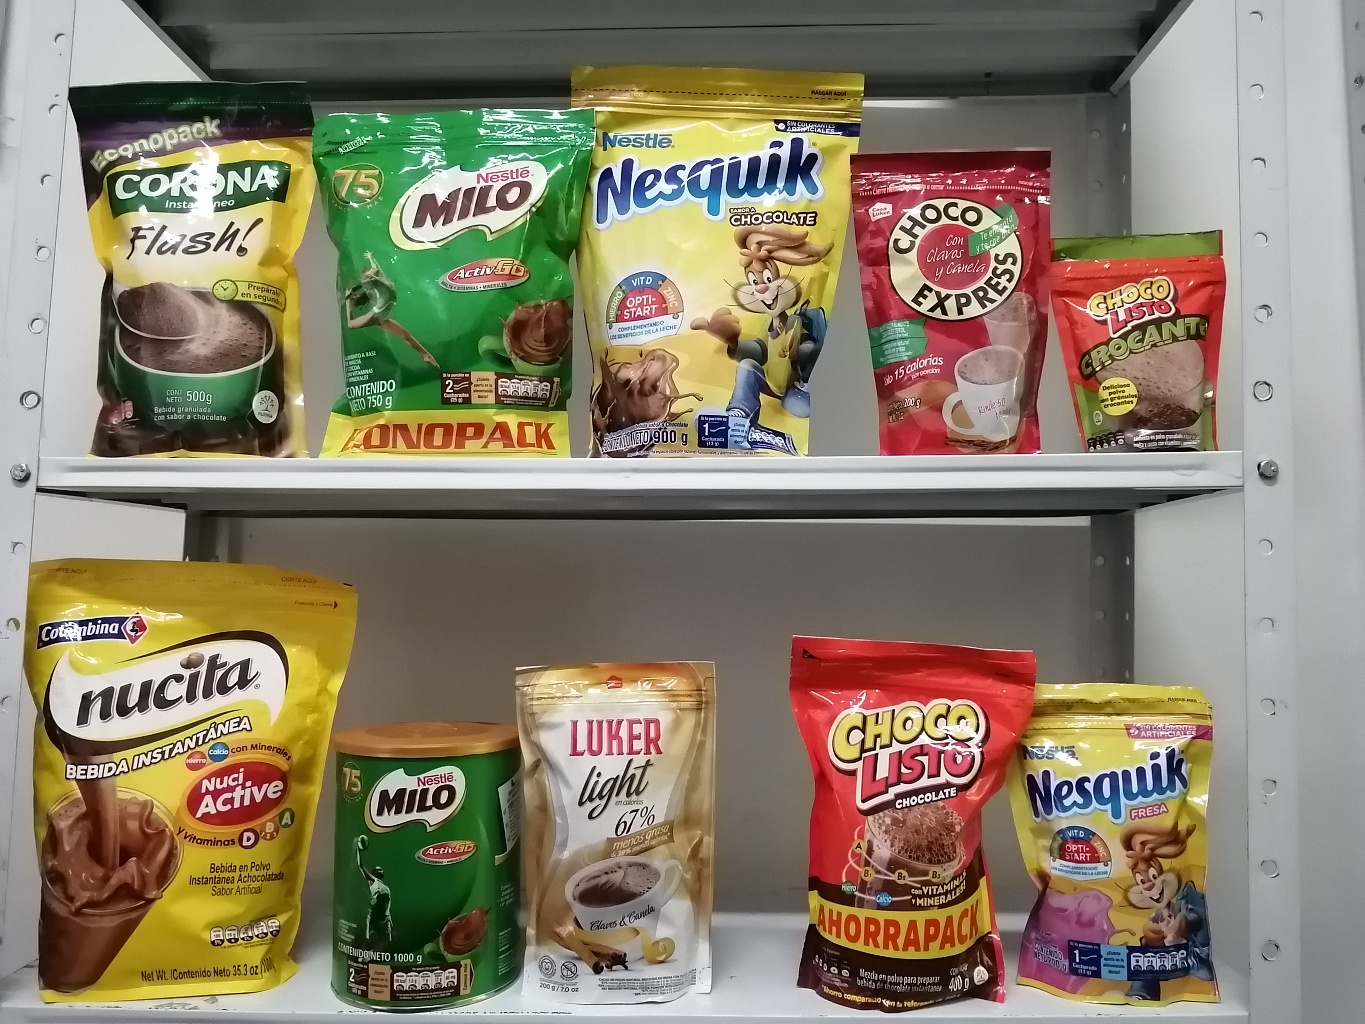COL0170102DYP10000: (1043, 218, 1241, 458)
COL0170103DYP40000: (782, 625, 1030, 1013)
COL0170305DYP20000: (1009, 675, 1229, 1013)
